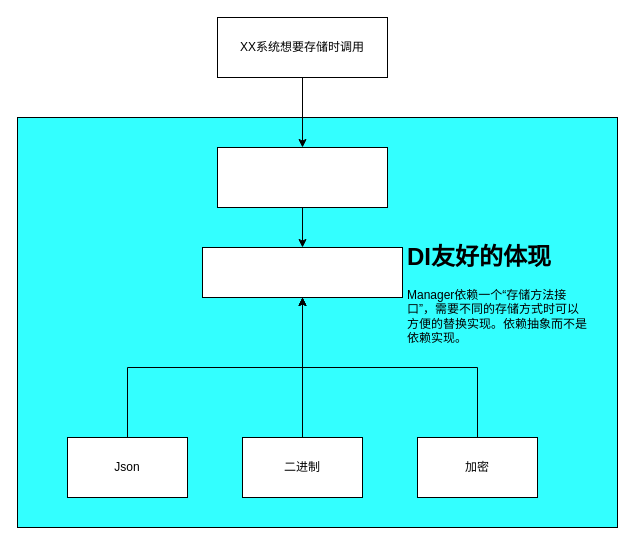
Some shapes in this 635 by 545 pixel diagram are drawn without their labels. The shapes that lost their labels are listed below. From the top down, each one's centre as x and y in pixels, then its label:
At (302,177): "MMSaveLoadManager.cs".
At (302,272): "«interface» IMMSaveLoadManagerMethod".
